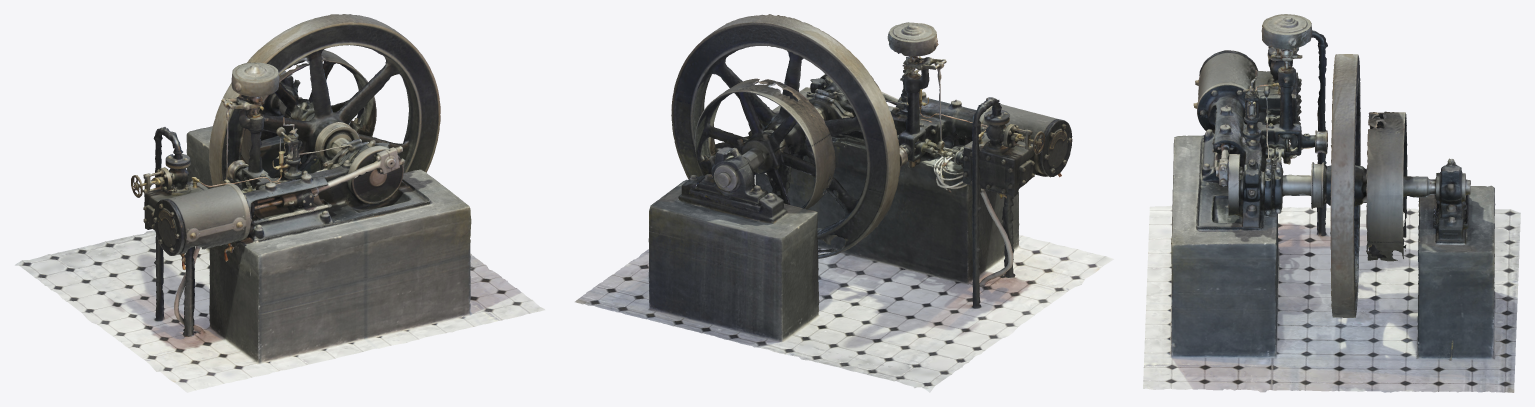
File: steam_engine_-_slide_distribution_system_rider.glb
3 renders of one model, left to right at view 1: azimuth 30°, elevation 25°; view 2: azimuth 150°, elevation 25°; view 3: azimuth 270°, elevation 25°, orthographic. The views are drawn at different scales.
Parts seen in each view (by area): view 1: engine1; view 2: engine1; view 3: engine1.
Boxes of the visible parts, <box> form: engine1: <box>15,14,544,392</box>; engine1: <box>575,14,1113,392</box>; engine1: <box>1143,14,1520,392</box>.
Size of the model in its own units: 3995 by 2681 by 3479.
Materials: 1 (1 with a texture image).
